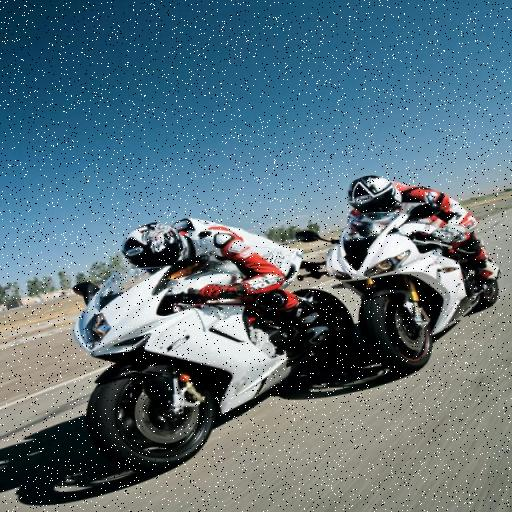Helmet: (102, 218, 195, 290), (342, 172, 410, 227)
Motor: (75, 223, 353, 461), (322, 205, 494, 367)
